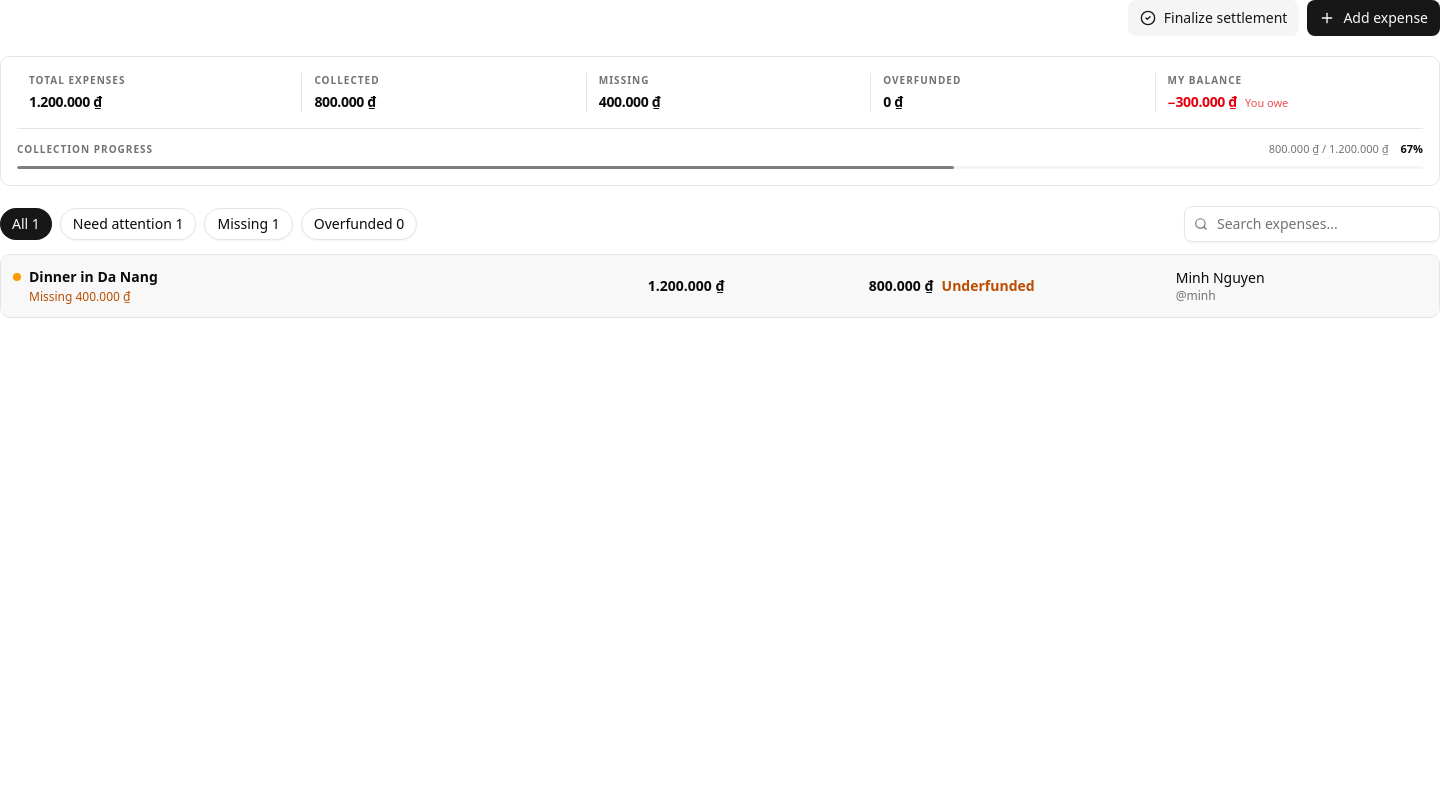
Test case: ExpensesTab › renders selected expense detail as a workbench with contextual contribution guidance
What coordinates should you click on to do the following:
click the button "Dinner in Da Nang"
I would click on:
 (720, 286)
Its box is [1,254,1439,316].
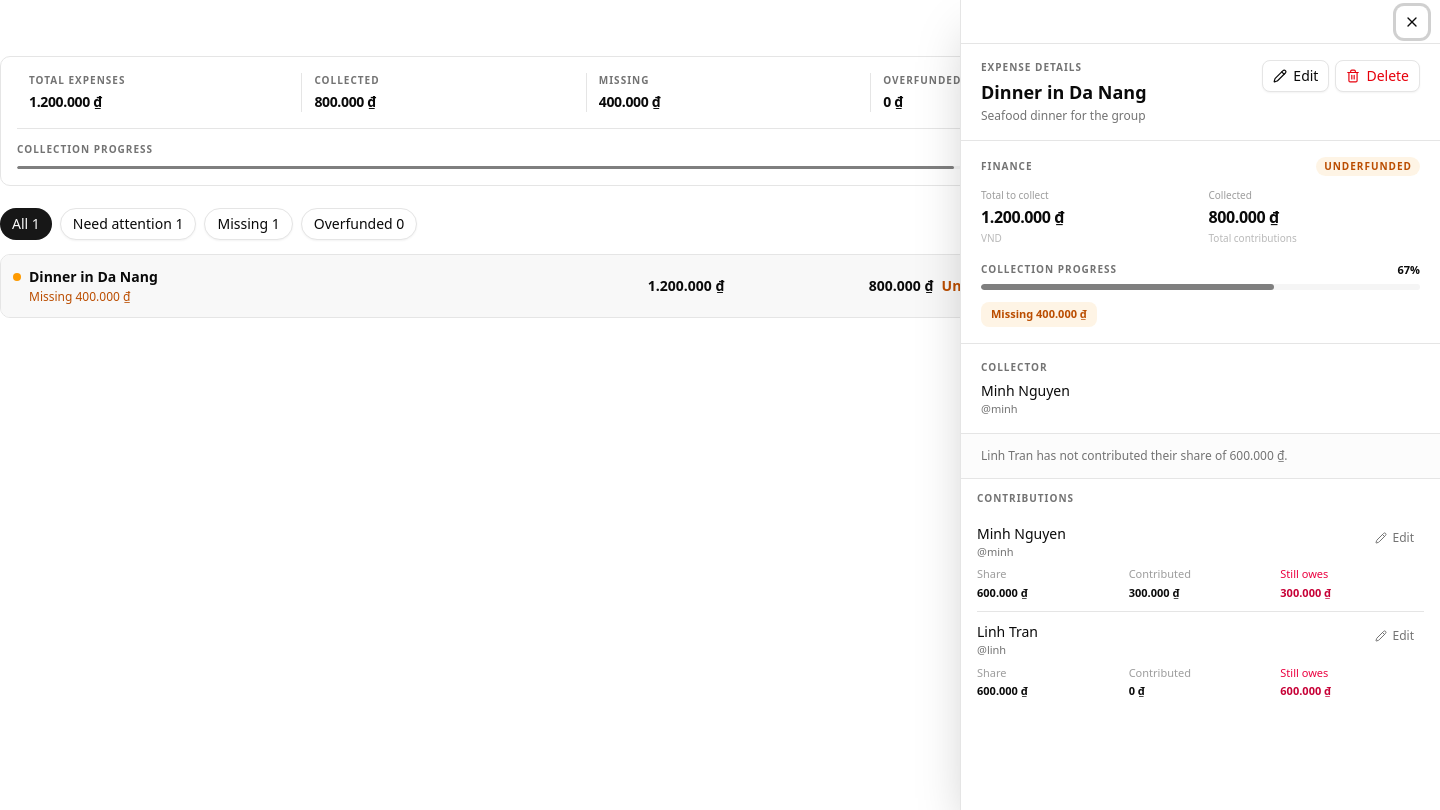
Check: the text "Expense details" is shown, box [981,60,1082,74]
Check: the text "Linh Tran has not contributed their share of 600.000 ₫." is shown, box [981,447,1288,464]
Check: the button with aria-label "Edit expense" is shown, box [1262,60,1330,92]
